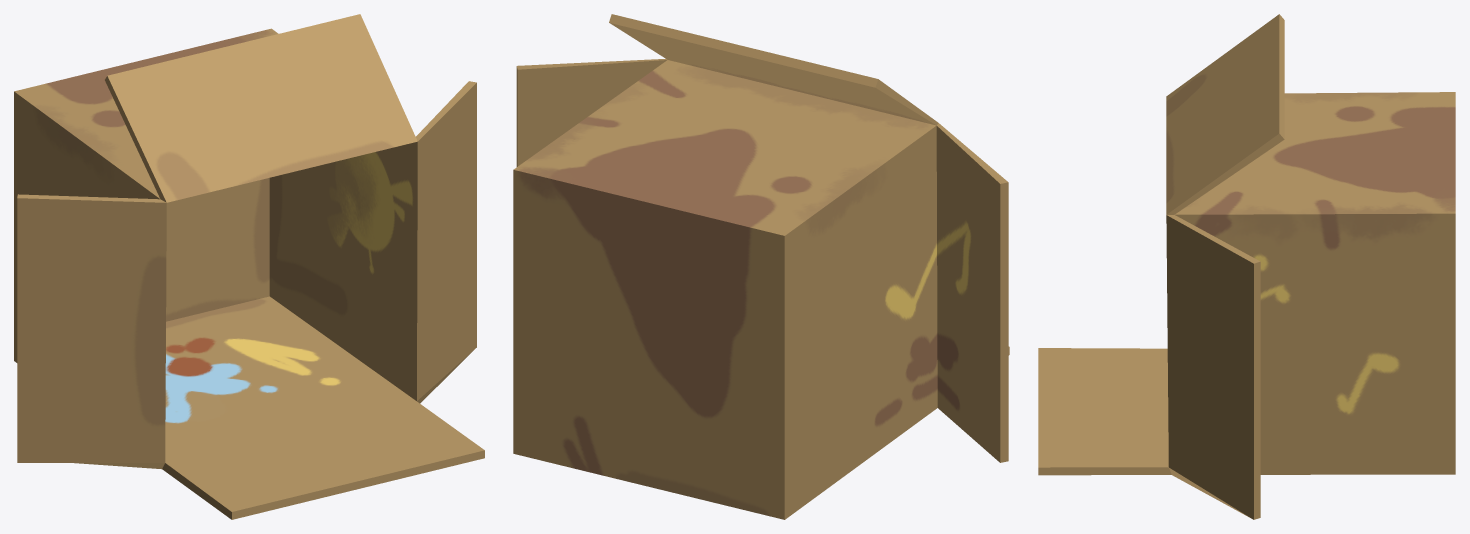
File: Box_2_paint.fbx
3 renders of one model, left to right at view 1: azimuth 30°, elevation 25°; view 2: azimuth 150°, elevation 25°; view 3: azimuth 270°, elevation 25°, orthographic. The views are drawn at different scales.
Visible parts, largest first — view 1: Box_2; view 2: Box_2; view 3: Box_2.
Part boxes in pixels (bbox=[...]): Box_2: bbox=[14, 14, 484, 519]; Box_2: bbox=[513, 14, 1009, 519]; Box_2: bbox=[1038, 14, 1455, 519].
Bounding box in the file's own units: 188 × 137 × 151.
